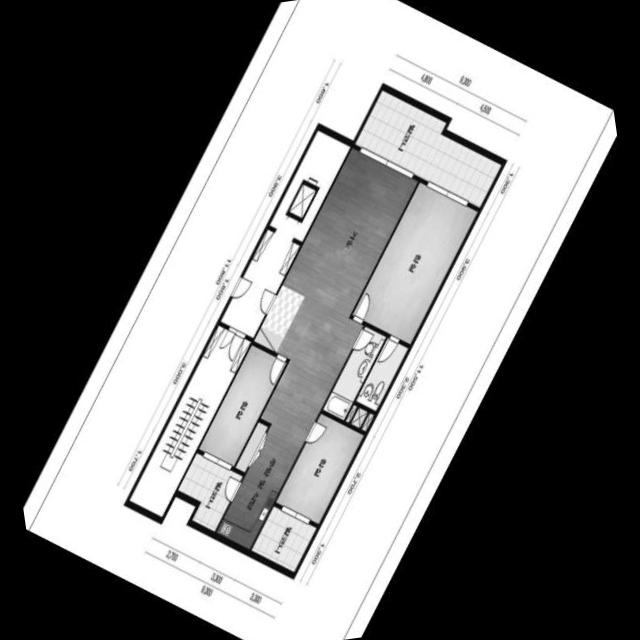background: (23, 0, 617, 640)
space_balconi: (354, 90, 500, 208), (177, 453, 242, 531), (250, 506, 315, 572)
space_bedroom: (351, 182, 477, 344), (198, 345, 286, 466), (275, 413, 363, 524)
space_elevator: (268, 130, 349, 242)
space_elevator_hall: (220, 229, 299, 338)
space_front: (253, 285, 304, 352)
space_kitchen: (215, 418, 304, 549)
space_living_room: (260, 148, 417, 440)
space_other: (350, 407, 367, 428), (360, 412, 373, 431), (344, 404, 356, 422)
space_staircase: (128, 325, 250, 517)
space_toilet: (322, 326, 385, 420), (355, 338, 407, 411)
